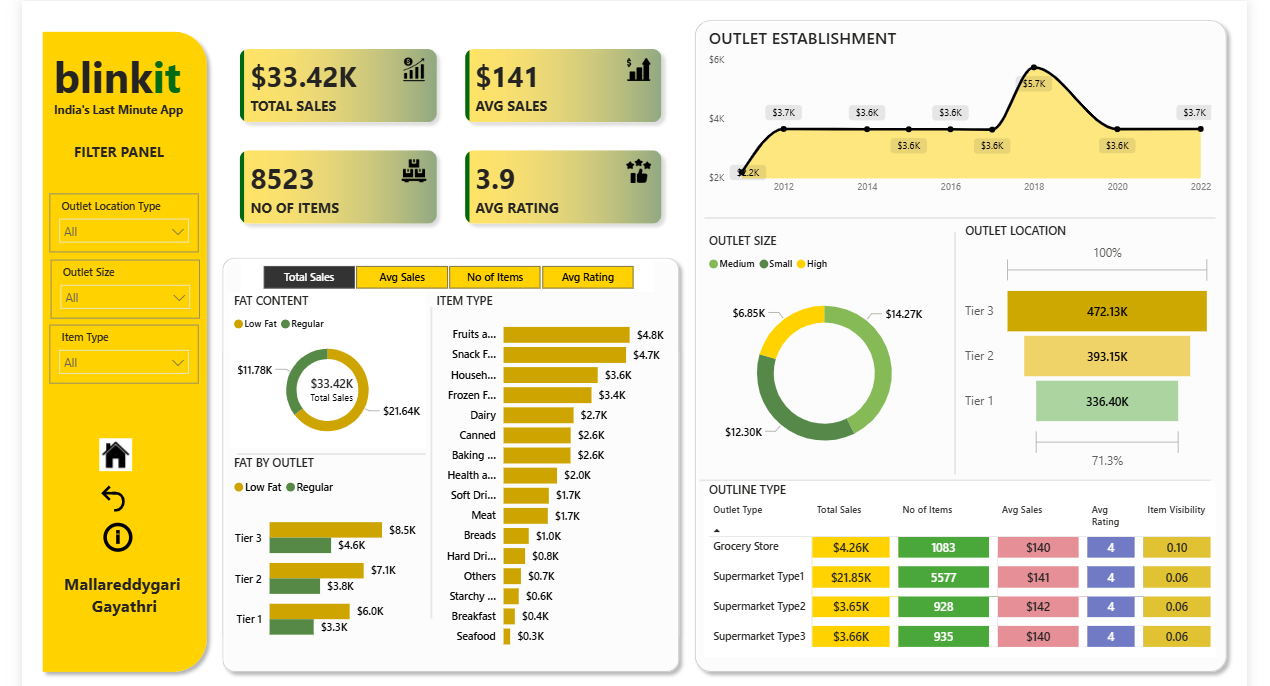

The page's visual inventory and layout, read from the dashboard file:
{"tool":"powerbi","page":{"name":"Page 1","canvas":[1400,800],"ordinal":0},"visuals":[{"type":"shape","box":[14,26,206,750],"z":0},{"type":"textbox","box":[32,48,170,76],"z":1000},{"type":"textbox","box":[32,110,166,28],"z":2000},{"type":"cardVisual","fields":{"Data":["BlinkIT Grocery Data.Total Sales","BlinkIT Grocery Data.Avg Sales","BlinkIT Grocery Data.No of Items","BlinkIT Grocery Data.Avg Rating"]},"box":[220,25.7,540,258.6],"z":3000},{"type":"shape","box":[220,284.3,540,491.4],"z":4000},{"type":"donutChart","title":"FAT CONTENT","fields":{"Y":["BlinkIT Grocery Data.Total Sales"],"Category":["BlinkIT Grocery Data.Item Fat Content"]},"box":[237.1,332.9,224.3,178.6],"z":5000},{"type":"slicer","fields":{"Values":["Metrics.Metrics"]},"box":[250,295.7,472.9,37.1],"z":6000},{"type":"cardVisual","fields":{"Data":["BlinkIT Grocery Data.Total Sales"]},"box":[301.4,412.9,105.7,62.9],"z":7000},{"type":"clusteredBarChart","title":"FAT BY OUTLET","fields":{"Y":["BlinkIT Grocery Data.Total Sales"],"Series":["BlinkIT Grocery Data.Item Fat Content"],"Category":["BlinkIT Grocery Data.Outlet Location Type"]},"box":[237.1,518.6,220,231.4],"z":8000},{"type":"shape","box":[245.7,511.4,215.7,12.9],"z":9000},{"type":"shape","box":[461.4,350,12.9,355.7],"z":10000},{"type":"barChart","title":"ITEM TYPE","fields":{"Y":["BlinkIT Grocery Data.Total Sales"],"Category":["BlinkIT Grocery Data.Item Type"]},"box":[468.6,332.9,274.3,417.1],"z":11000},{"type":"shape","box":[760,12.9,625.7,762.9],"z":12000},{"type":"lineChart","title":"OUTLET ESTABLISHMENT","fields":{"Y":["BlinkIT Grocery Data.Total Sales"],"Category":["BlinkIT Grocery Data.Outlet Establishment Year"]},"box":[780,28.6,584.3,201.4],"z":13000},{"type":"shape","box":[780,241.4,584.3,12.9],"z":14000},{"type":"donutChart","title":"OUTLET SIZE","fields":{"Y":["BlinkIT Grocery Data.Total Sales"],"Category":["BlinkIT Grocery Data.Outlet Size"]},"box":[780,264.3,274.3,277.1],"z":15000},{"type":"shape","box":[1060,264.3,12.9,277.1],"z":16000},{"type":"funnel","title":"OUTLET LOCATION","fields":{"Y":["Sum(BlinkIT Grocery Data.Sales)"],"Category":["BlinkIT Grocery Data.Outlet Location Type"]},"box":[1072.9,252.9,291.4,288.6],"z":17000},{"type":"shape","box":[774.3,541.4,584.3,12.9],"z":18000},{"type":"pivotTable","title":"OUTLINE TYPE","fields":{"Rows":["BlinkIT Grocery Data.Outlet Type"],"Values":["BlinkIT Grocery Data.Total Sales","BlinkIT Grocery Data.No of Items","BlinkIT Grocery Data.Avg Sales","BlinkIT Grocery Data.Avg Rating","Avg(BlinkIT Grocery Data.Item Visibility)"]},"box":[780,548.6,584.3,201.4],"z":19000},{"type":"slicer","fields":{"Values":["BlinkIT Grocery Data.Outlet Location Type"]},"box":[31.4,220,170,67.1],"z":20000},{"type":"slicer","fields":{"Values":["BlinkIT Grocery Data.Outlet Size"]},"box":[32.9,295.7,170,67.1],"z":21000},{"type":"slicer","fields":{"Values":["BlinkIT Grocery Data.Item Type"]},"box":[31.4,370,170,67.1],"z":22000},{"type":"textbox","box":[40,155.7,141.4,32.9],"z":23000},{"type":"actionButton","box":[84.3,577.1,50,71.4],"z":24000},{"type":"actionButton","box":[84.3,495.7,50,45.7],"z":25000},{"type":"actionButton","box":[84.3,548.6,50,40],"z":26000},{"type":"textbox","box":[40,648.6,154.3,60],"z":27000}]}

Visuals, with their boxes on the page's 1400x800 design canvas (x1, y1, x2, y2). These are canvas units, not pixel positions in the 1270x686 screenshot, which may show the page scaled, cropped or inside an application window:
shape: bbox=[14, 26, 220, 776]
textbox: bbox=[32, 48, 202, 124]
textbox: bbox=[32, 110, 198, 138]
cardVisual - BlinkIT Grocery Data.Total Sales x BlinkIT Grocery Data.Avg Sales: bbox=[220, 26, 760, 284]
shape: bbox=[220, 284, 760, 776]
"FAT CONTENT" donutChart: bbox=[237, 333, 461, 512]
slicer - Metrics.Metrics: bbox=[250, 296, 723, 333]
cardVisual - BlinkIT Grocery Data.Total Sales: bbox=[301, 413, 407, 476]
"FAT BY OUTLET" clusteredBarChart: bbox=[237, 519, 457, 750]
shape: bbox=[246, 511, 461, 524]
shape: bbox=[461, 350, 474, 706]
"ITEM TYPE" barChart: bbox=[469, 333, 743, 750]
shape: bbox=[760, 13, 1386, 776]
"OUTLET ESTABLISHMENT" lineChart: bbox=[780, 29, 1364, 230]
shape: bbox=[780, 241, 1364, 254]
"OUTLET SIZE" donutChart: bbox=[780, 264, 1054, 541]
shape: bbox=[1060, 264, 1073, 541]
"OUTLET LOCATION" funnel: bbox=[1073, 253, 1364, 542]
shape: bbox=[774, 541, 1359, 554]
"OUTLINE TYPE" pivotTable: bbox=[780, 549, 1364, 750]
slicer - BlinkIT Grocery Data.Outlet Location Type: bbox=[31, 220, 201, 287]
slicer - BlinkIT Grocery Data.Outlet Size: bbox=[33, 296, 203, 363]
slicer - BlinkIT Grocery Data.Item Type: bbox=[31, 370, 201, 437]
textbox: bbox=[40, 156, 181, 189]
actionButton: bbox=[84, 577, 134, 648]
actionButton: bbox=[84, 496, 134, 541]
actionButton: bbox=[84, 549, 134, 589]
textbox: bbox=[40, 649, 194, 709]
